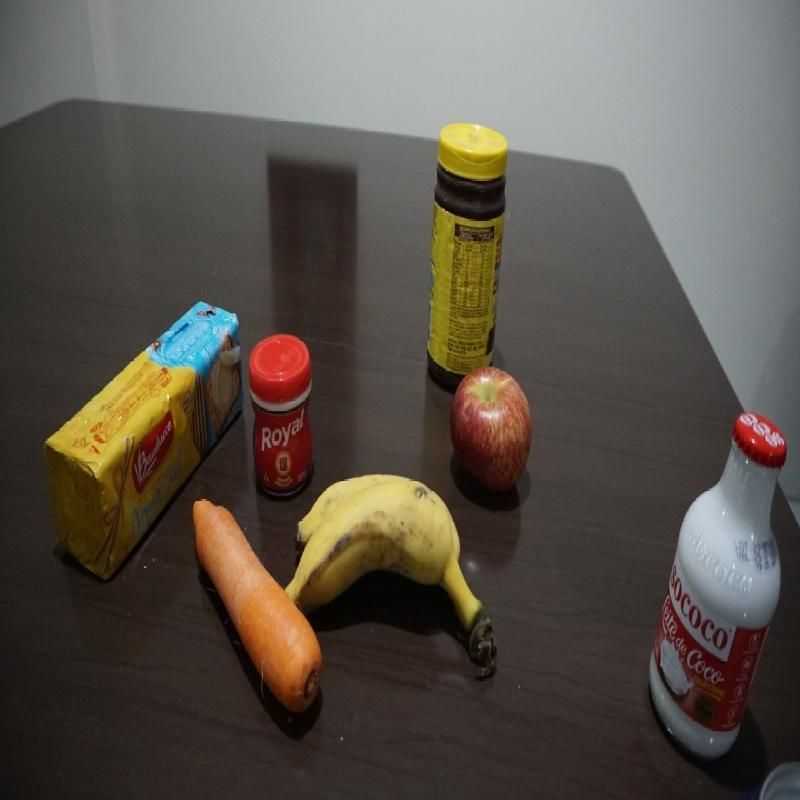Apple: (448, 371, 531, 477)
Banana: (296, 477, 486, 637)
Carrot: (184, 492, 294, 731)
Chocolate Powder: (426, 121, 505, 366)
Coconut Milk: (646, 395, 789, 753)
Cracker: (46, 299, 242, 488)
Yeast: (249, 331, 316, 493)
